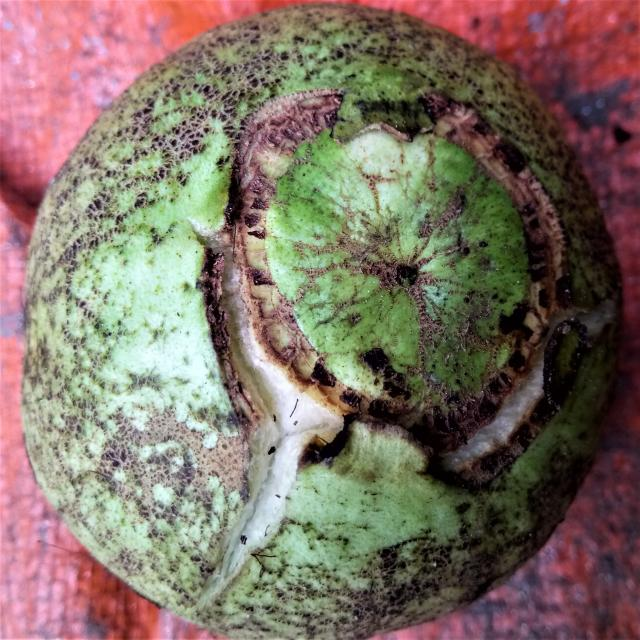Scab: (22, 5, 621, 637)
